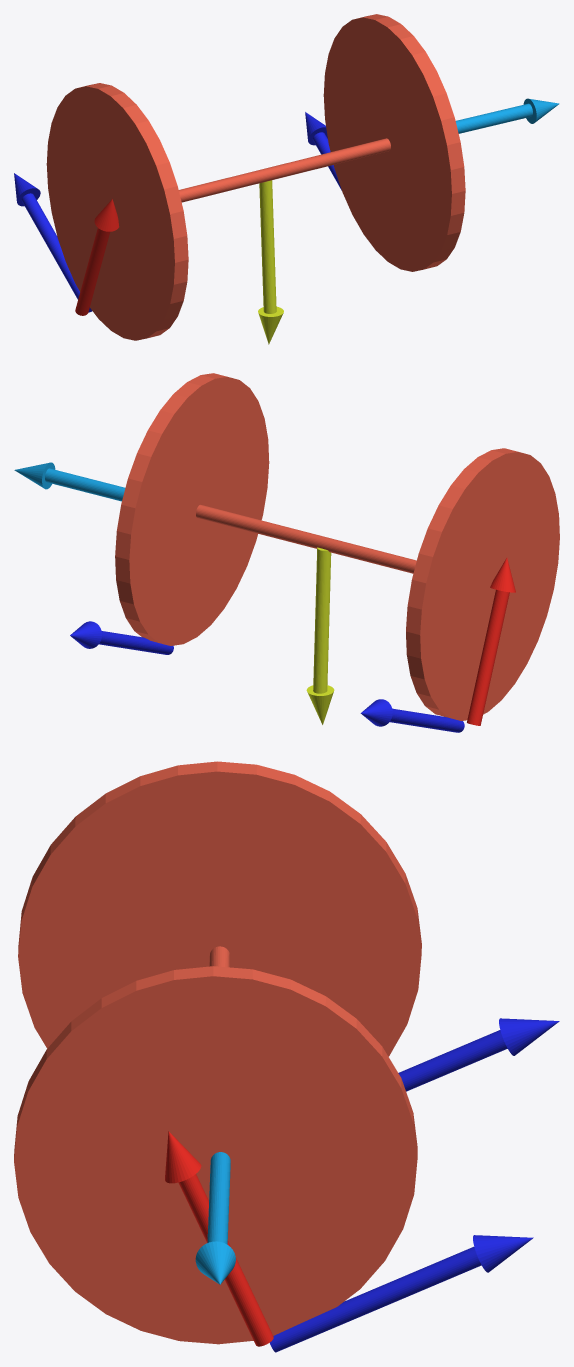
The model's file is ejeConVector.glb.
3 views of the same model, one above another, from view 1: azimuth 30°, elevation 25°; view 2: azimuth 150°, elevation 25°; view 3: azimuth 270°, elevation 25° (orthographic). The views are drawn at different scales.
Visible parts, largest first — view 1: Cylinder.001, Cylinder.002, Cylinder.004, Cylinder.005, Cylinder, Cylinder.003; view 2: Cylinder.001, Cylinder.002, Cylinder.004, Cylinder, Cylinder.005, Cylinder.003; view 3: Cylinder.001, Cylinder.003, Cylinder.011, Cylinder.005, Cylinder.
Boxes of the visible parts, x1,y1,x2,y2 form: Cylinder.001: [46, 14, 465, 340]; Cylinder.002: [258, 180, 283, 344]; Cylinder.004: [75, 199, 119, 315]; Cylinder.005: [14, 173, 92, 312]; Cylinder: [455, 98, 559, 133]; Cylinder.003: [305, 112, 341, 190]; Cylinder.001: [115, 373, 559, 720]; Cylinder.002: [306, 547, 334, 724]; Cylinder.004: [467, 557, 515, 725]; Cylinder: [14, 462, 125, 501]; Cylinder.005: [360, 699, 464, 732]; Cylinder.003: [70, 621, 173, 654]; Cylinder.001: [14, 761, 421, 1344]; Cylinder.003: [270, 1235, 533, 1352]; Cylinder.011: [165, 1131, 273, 1346]; Cylinder.005: [398, 1018, 559, 1091]; Cylinder: [195, 1152, 235, 1284].
Size of the model in its own units: 8.29 by 4.92 by 5.4.
